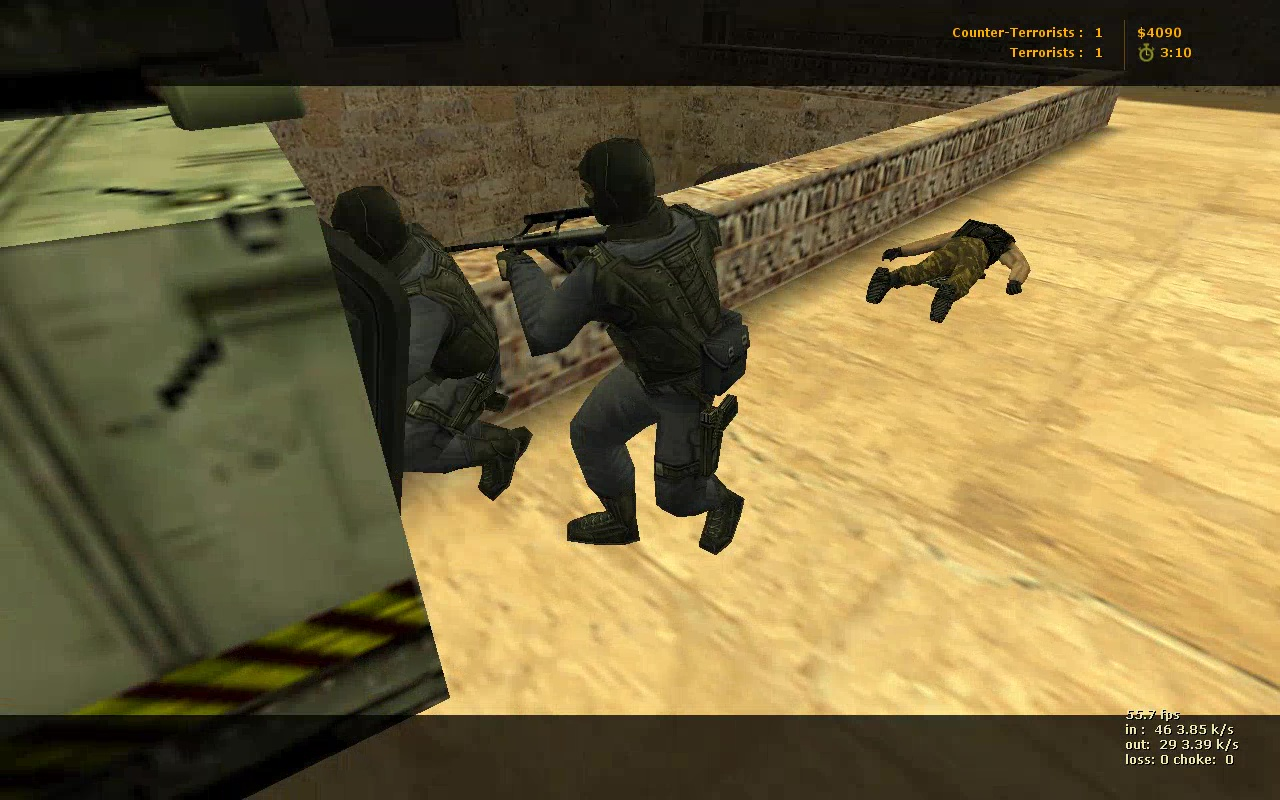ct: (503, 137, 747, 553), (315, 185, 530, 515)
